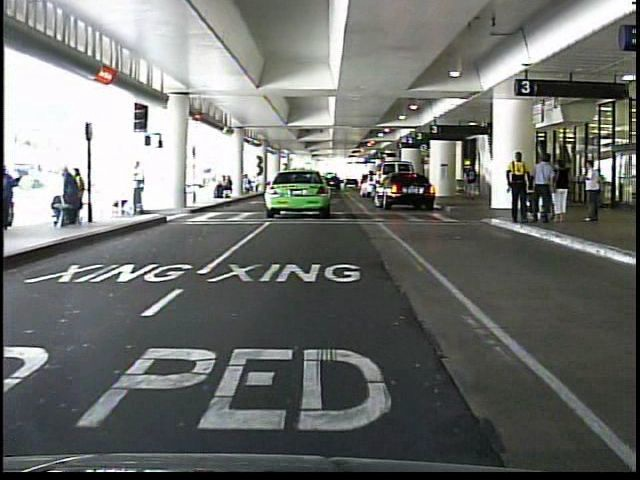person: (500, 150, 533, 231), (119, 158, 152, 224), (576, 155, 606, 227), (529, 149, 554, 227), (552, 158, 568, 227), (462, 159, 483, 204)
